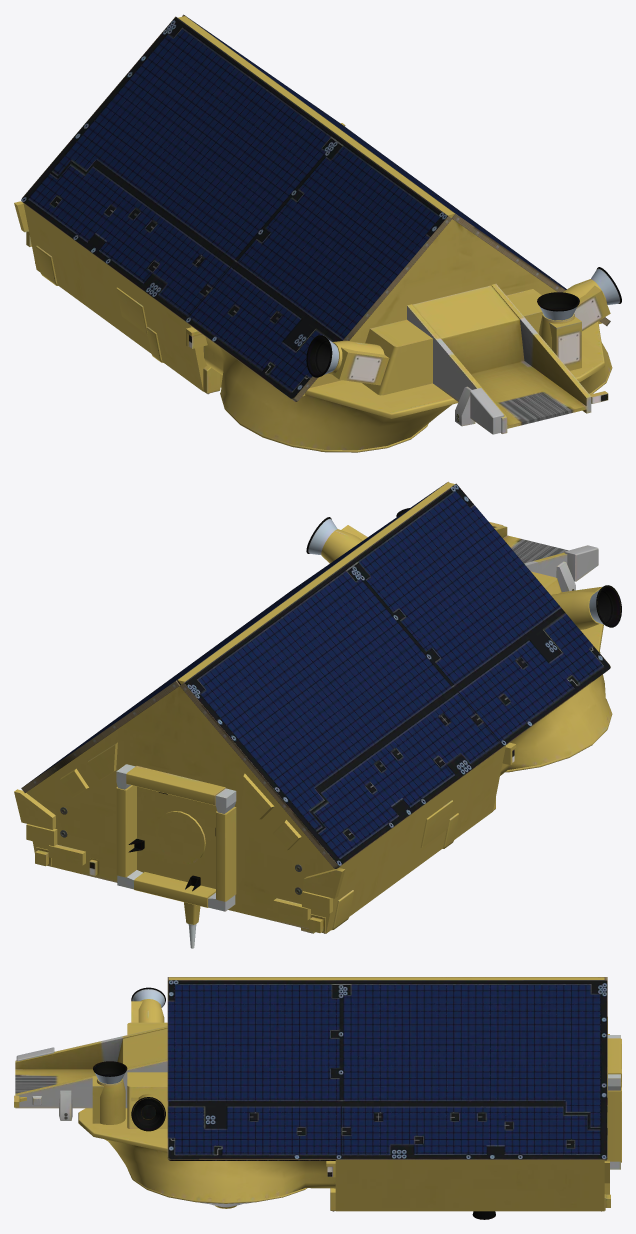
Rendered from cryosat-2.glb.
3 views of the same model, one above another, from view 1: azimuth 30°, elevation 25°; view 2: azimuth 150°, elevation 25°; view 3: azimuth 270°, elevation 25° (orthographic). The views are drawn at different scales.
Parts seen in each view (by area): view 1: Cryosat_Solar Panel, Cryosat_Magnetometer (MGM); view 2: Cryosat_Solar Panel, Cryosat_Magnetometer (MGM); view 3: Cryosat_Solar Panel, Cryosat_Magnetometer (MGM).
Part boxes in pixels (<box>): Cryosat_Solar Panel: <box>21,14,610,401</box>; Cryosat_Magnetometer (MGM): <box>14,16,621,452</box>; Cryosat_Solar Panel: <box>21,481,610,868</box>; Cryosat_Magnetometer (MGM): <box>14,482,621,948</box>; Cryosat_Solar Panel: <box>167,977,607,1160</box>; Cryosat_Magnetometer (MGM): <box>14,977,621,1219</box>.
Size of the model in its own units: 2.57 by 1.91 by 4.74.
Materials: 2 (2 with a texture image).
